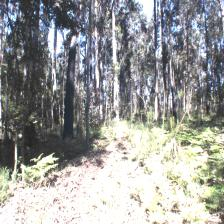trunktrack_idkeyframe: (63, 60, 75, 139)
